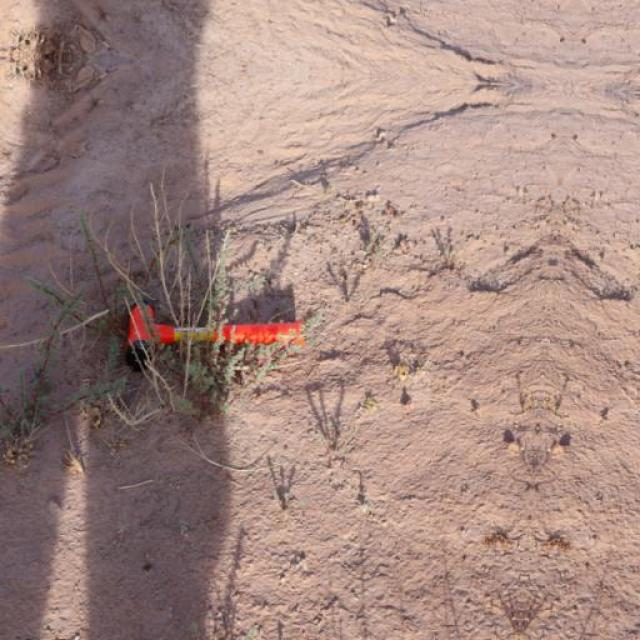mallet: (122, 298, 308, 372)
